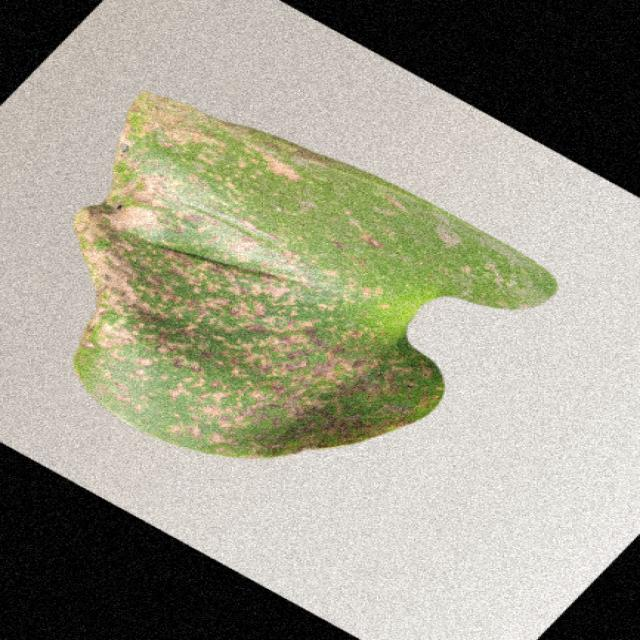daun berpenyakit bercak: (75, 92, 556, 457)
